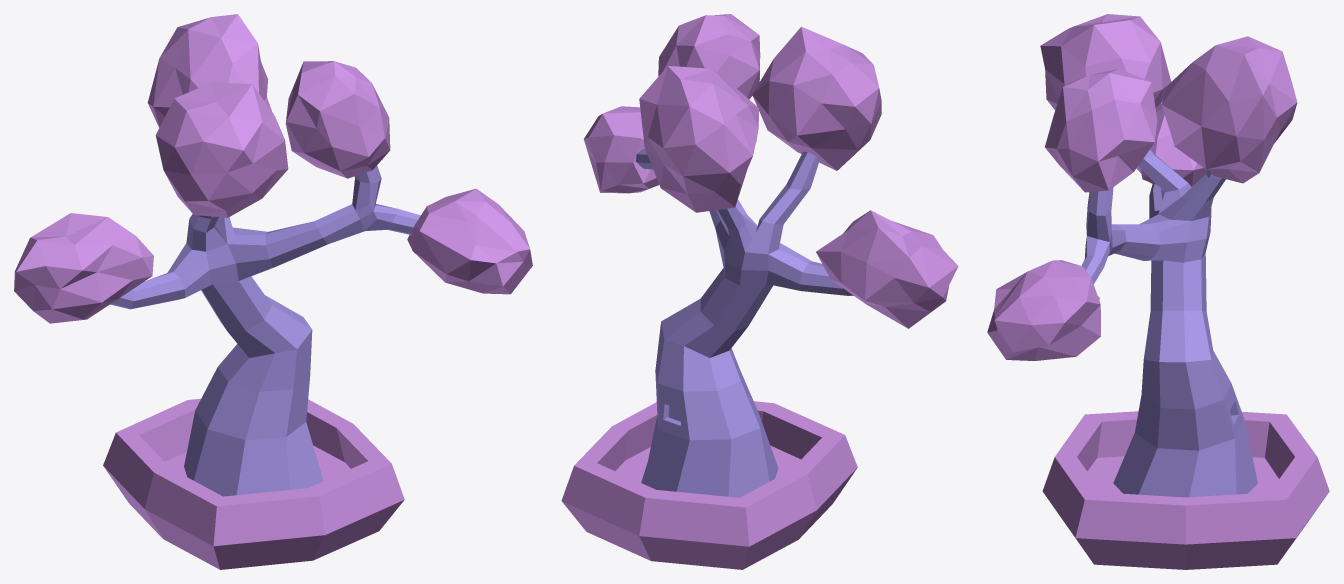
File: дерево-пятиветочное.fbx
The picture shows the model from 3 angles, left to right: view 1: azimuth 30°, elevation 25°; view 2: azimuth 150°, elevation 25°; view 3: azimuth 270°, elevation 25°; orthographic projection.
Parts seen in each view (by area): view 1: Плоскость, Cube, Икосфера.003, Икосфера.004, Икосфера.001, Икосфера, Икосфера.002; view 2: Плоскость, Cube, Икосфера.002, Икосфера.003, Икосфера.004, Икосфера.001, Икосфера; view 3: Плоскость, Cube, Икосфера.002, Икосфера.001, Икосфера, Икосфера.003, Икосфера.004.
Part boxes in pixels (x1,y1,x2,y2): Плоскость: (110, 165, 420, 496); Cube: (103, 398, 404, 569); Икосфера.003: (155, 82, 288, 217); Икосфера.004: (14, 213, 153, 323); Икосфера.001: (285, 61, 390, 178); Икосфера: (407, 188, 532, 294); Икосфера.002: (147, 14, 271, 127); Плоскость: (636, 149, 853, 497); Cube: (561, 401, 857, 569); Икосфера.002: (639, 66, 758, 212); Икосфера.003: (752, 26, 881, 170); Икосфера.004: (816, 210, 958, 328); Икосфера.001: (658, 14, 760, 99); Икосфера: (583, 106, 659, 193); Плоскость: (1081, 149, 1257, 497); Cube: (1042, 411, 1329, 569); Икосфера.002: (1161, 36, 1297, 183); Икосфера.001: (1045, 69, 1157, 192); Икосфера: (987, 260, 1100, 360); Икосфера.003: (1040, 14, 1171, 109); Икосфера.004: (1136, 98, 1207, 186).
Bounding box in the file's own units: 10.64 × 11.08 × 7.2.
